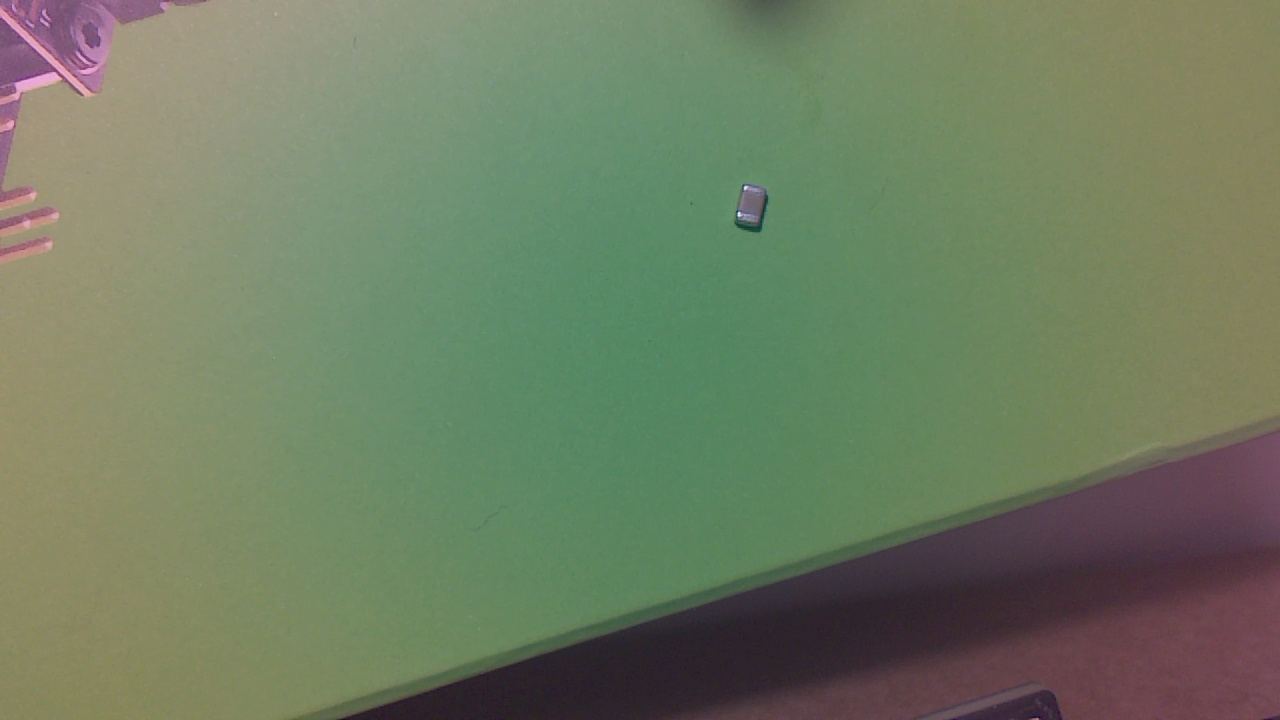Condensator: (739, 187, 776, 236)
